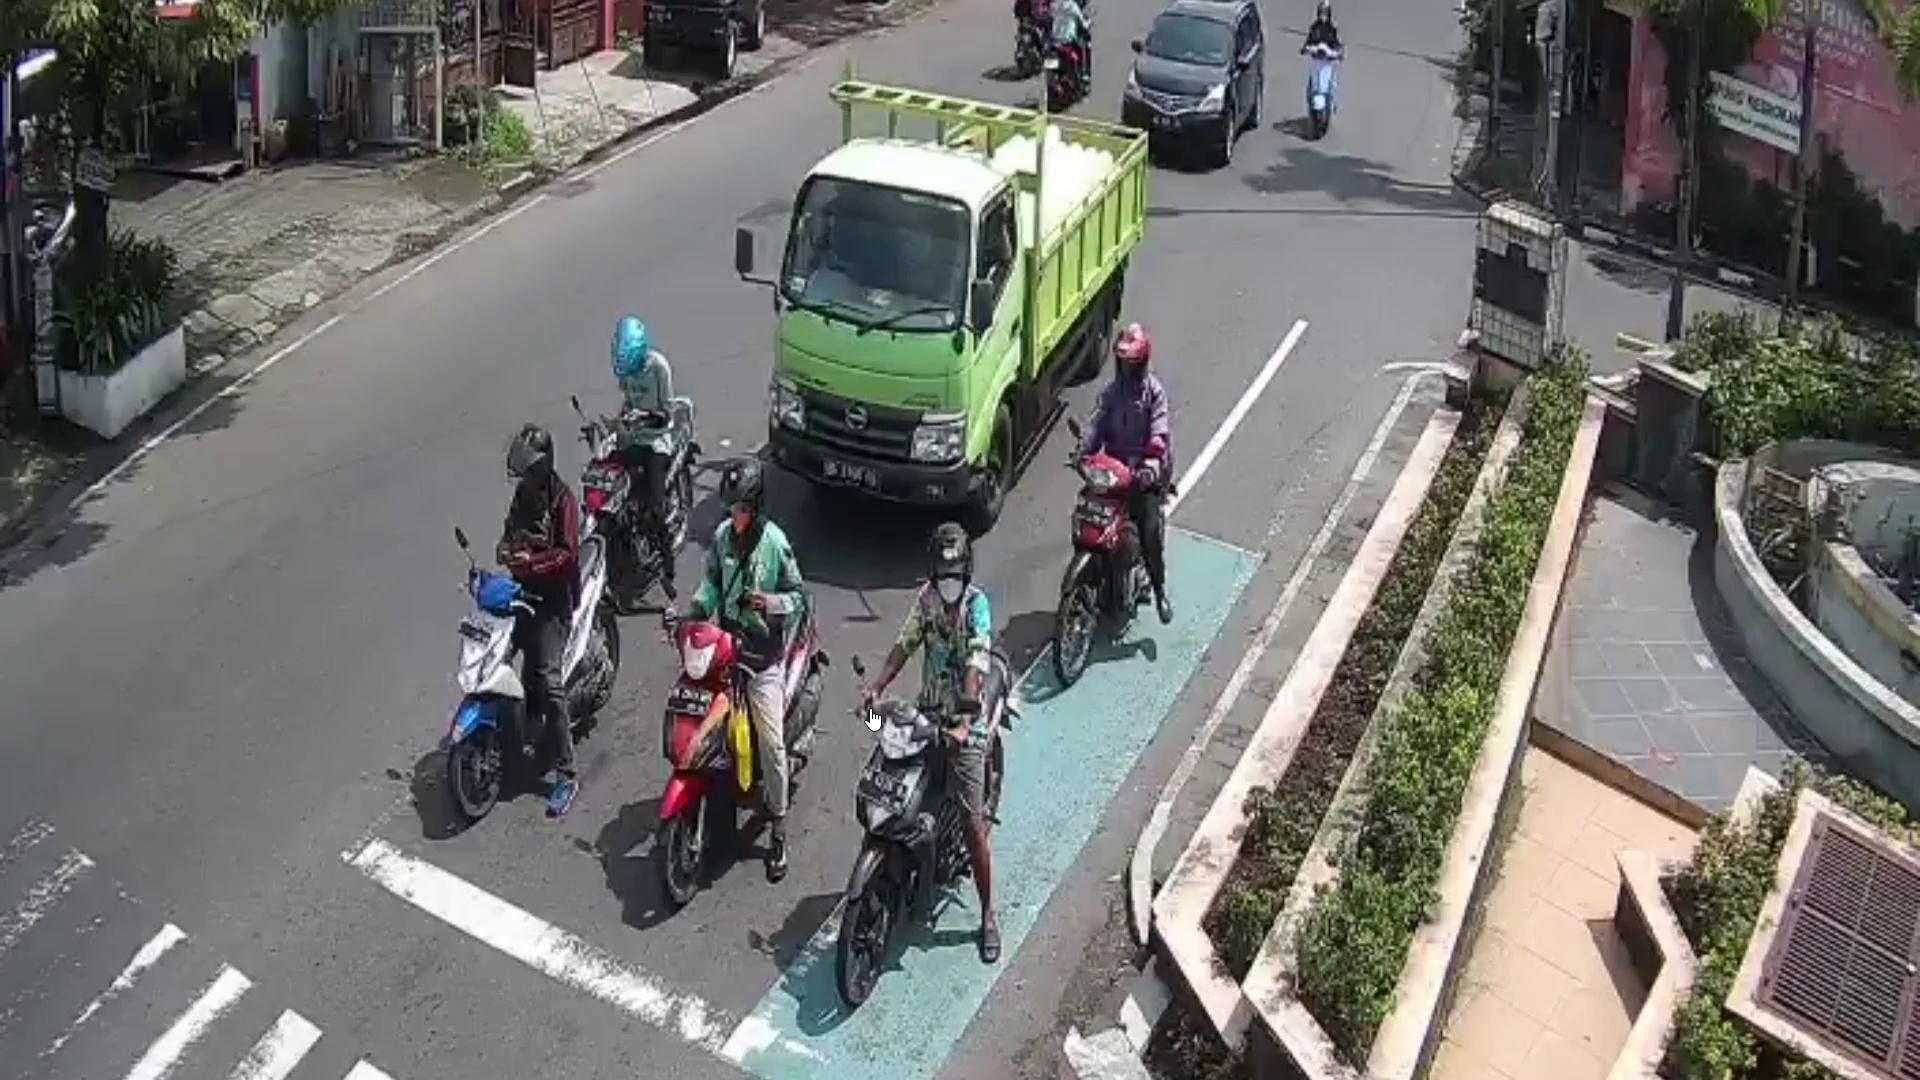car: (1121, 0, 1267, 166)
motorbike: (837, 646, 1015, 1005), (662, 588, 828, 907), (446, 529, 622, 823), (1054, 450, 1175, 687), (568, 396, 700, 580), (1046, 20, 1098, 108), (1298, 40, 1338, 137)
truck: (769, 75, 1150, 529)
